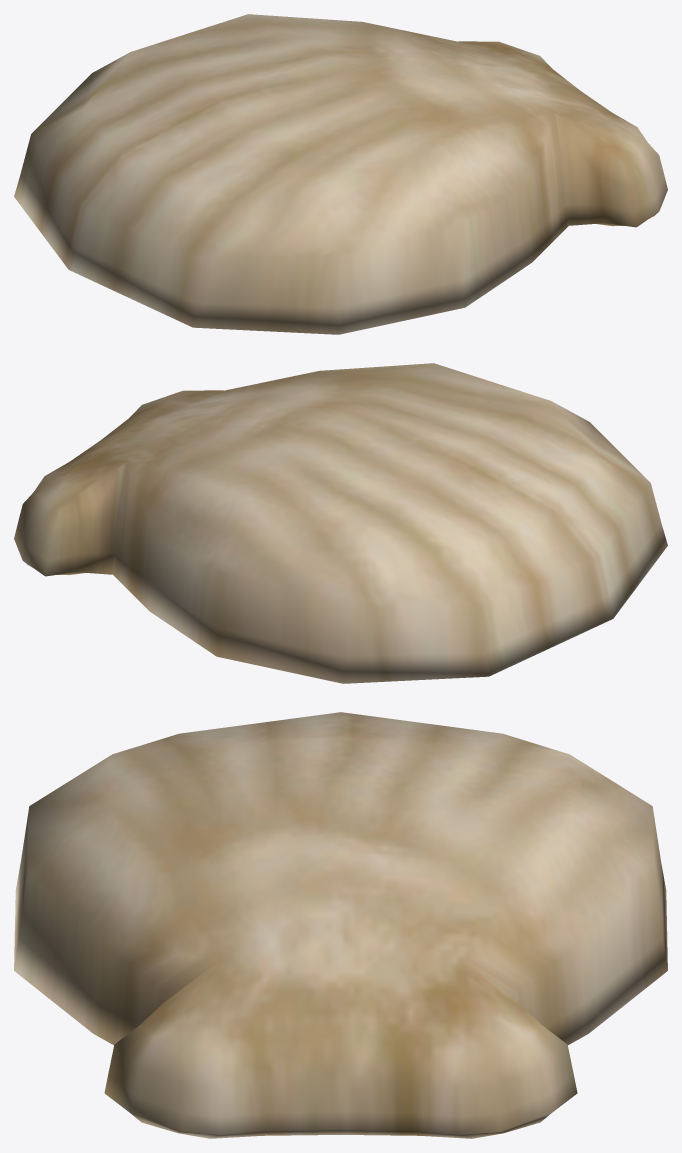
File: Scallop_Shell.fbx
The picture shows the model from 3 angles, top to bottom: view 1: azimuth 30°, elevation 25°; view 2: azimuth 150°, elevation 25°; view 3: azimuth 270°, elevation 25°; orthographic projection. The views are drawn at different scales.
Parts seen in each view (by area): view 1: BugBook; view 2: BugBook; view 3: BugBook.
Part boxes in pixels (left/top/right/bottom): BugBook: left=14, top=14, right=667, bottom=334; BugBook: left=14, top=363, right=667, bottom=683; BugBook: left=14, top=712, right=667, bottom=1138.
Bounding box in the file's own units: 0.8739 × 0.2485 × 0.7362.
